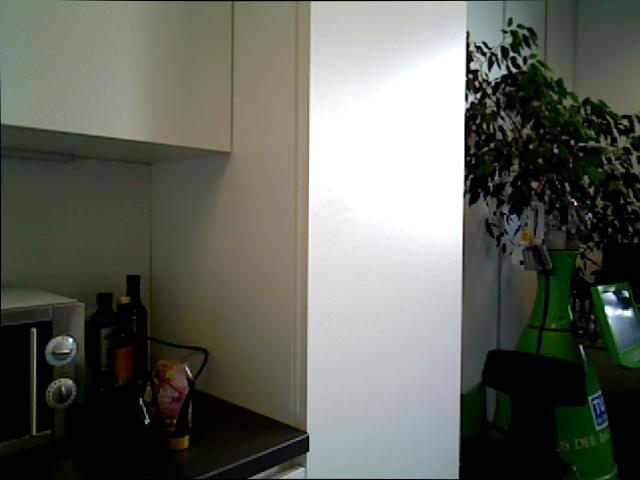bench: (146, 357, 196, 450), (88, 291, 116, 411), (106, 295, 135, 408), (124, 273, 148, 408)
carrot: (465, 16, 640, 294)
hot dog: (307, 1, 459, 480)
knife: (0, 284, 86, 460)
